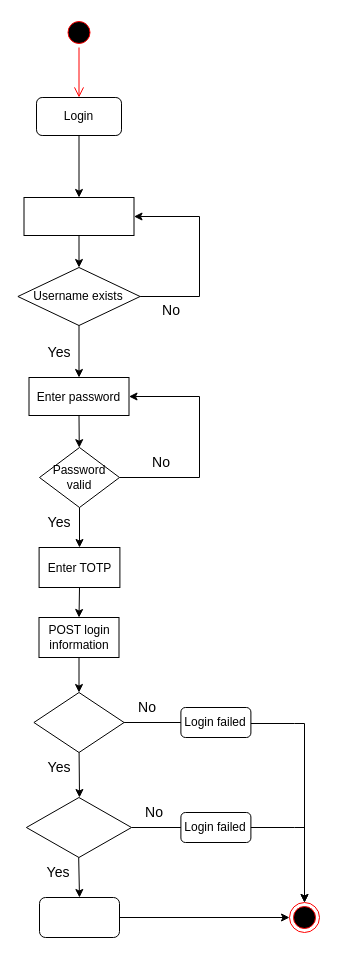
Some shapes in this 337 by 955 pixel diagram are drawn without their labels. Here are the shapes that lost their labels. From the top down, the box of each, then its label:
(23, 196, 134, 236): Enter username
(33, 692, 124, 752): Validate password
(25, 796, 132, 858): Validate TOTP
(38, 896, 120, 938): Login successfully
